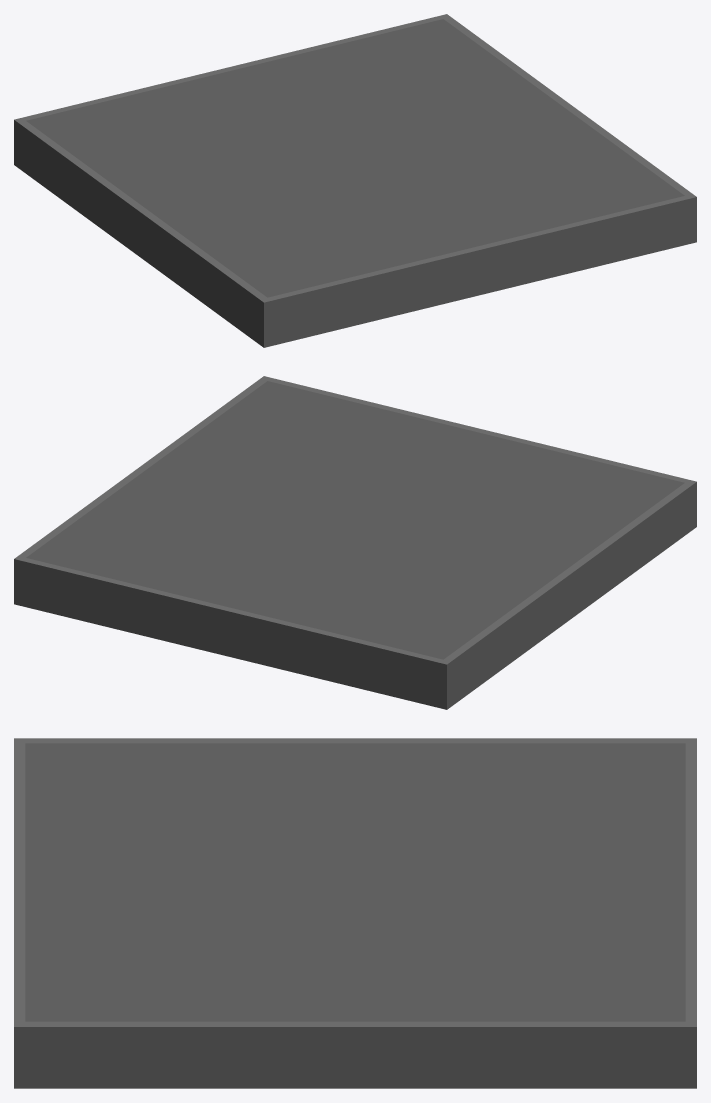
The model's file is ConcrateSlabs_B_2_1.fbx.
3 renders of one model, top to bottom at view 1: azimuth 30°, elevation 25°; view 2: azimuth 150°, elevation 25°; view 3: azimuth 270°, elevation 25°, orthographic. The views are drawn at different scales.
Visible parts, largest first — view 1: ConcrateSlabs_B_2_1; view 2: ConcrateSlabs_B_2_1; view 3: ConcrateSlabs_B_2_1.
Boxes of the visible parts, x1,y1,x2,y2 form: ConcrateSlabs_B_2_1: [14, 14, 696, 347]; ConcrateSlabs_B_2_1: [14, 376, 696, 709]; ConcrateSlabs_B_2_1: [14, 738, 696, 1088].
Size of the model in its own units: 400 by 40 by 400.
